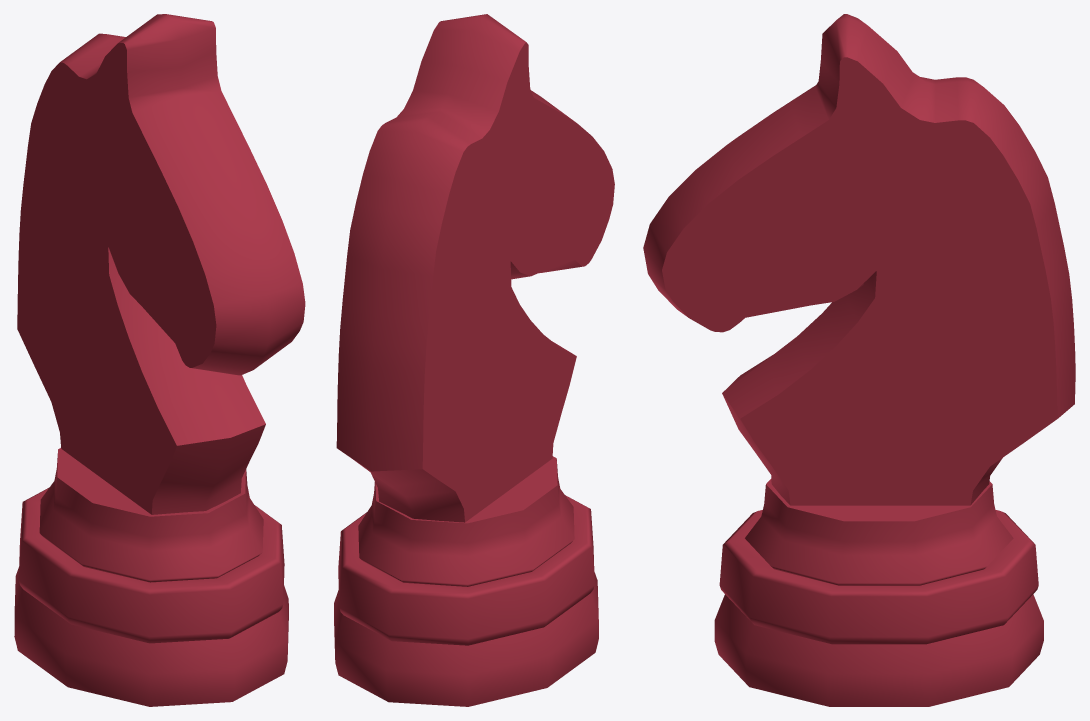
Rendered from item-1-3.glb.
3 views of the same model, side by side, from view 1: azimuth 30°, elevation 25°; view 2: azimuth 150°, elevation 25°; view 3: azimuth 270°, elevation 25° (orthographic). The views are drawn at different scales.
Visible parts, largest first — view 1: BlackHorse; view 2: BlackHorse; view 3: BlackHorse.
Boxes of the visible parts, x1=… form: BlackHorse: x1=14, y1=14, x2=305, y2=706; BlackHorse: x1=334, y1=14, x2=614, y2=706; BlackHorse: x1=643, y1=14, x2=1075, y2=706.
Size of the model in its own units: 0.0718 by 0.1965 by 0.1211.
